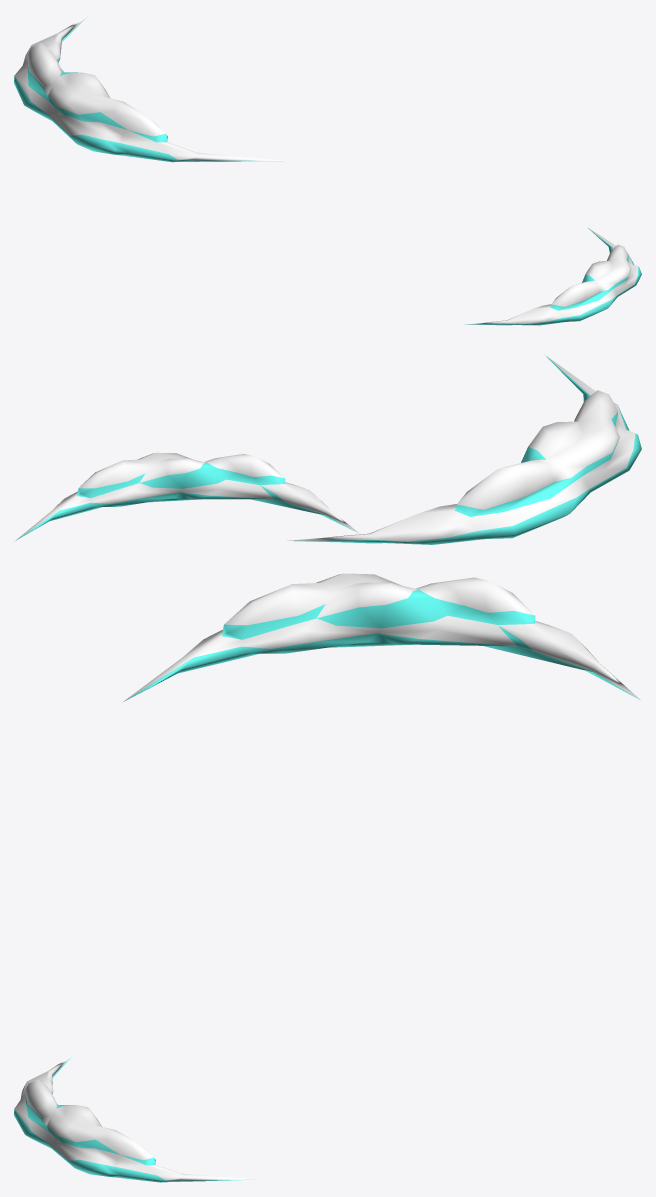
Rendered from Clouds_001.fbx.
3 views of the same model, one above another, from view 1: azimuth 30°, elevation 25°; view 2: azimuth 150°, elevation 25°; view 3: azimuth 270°, elevation 25° (orthographic). The views are drawn at different scales.
Parts seen in each view (by area): view 1: cloud:Clouds; view 2: cloud:Clouds; view 3: cloud:Clouds.
Boxes of the visible parts, <box> form: cloud:Clouds: <box>14,15,641,325</box>; cloud:Clouds: <box>14,355,641,544</box>; cloud:Clouds: <box>14,573,640,1182</box>.
Bounding box in the file's own units: 742 × 336 × 617.
